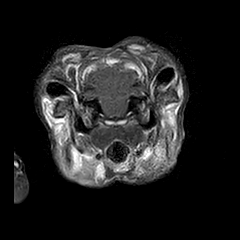Brain: (65, 40, 164, 138)
